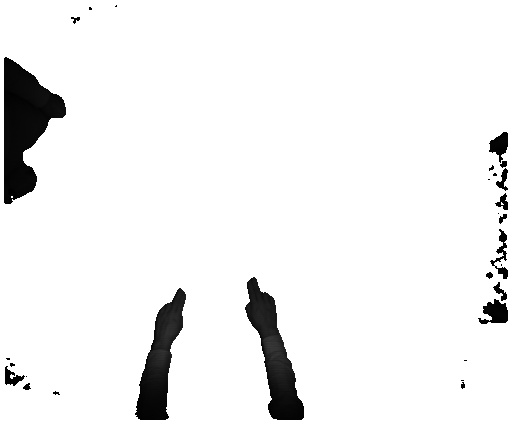hand: (144, 288, 191, 350), (240, 272, 281, 333)
